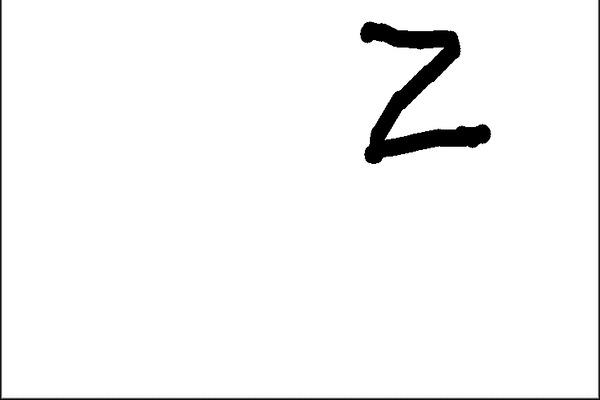Z: (348, 15, 502, 169)
